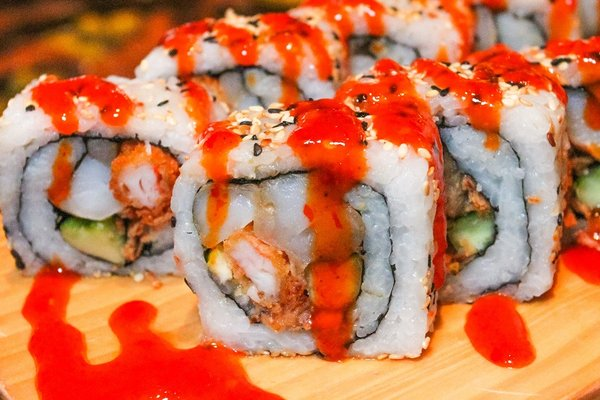sandwich: (8, 2, 594, 384)
